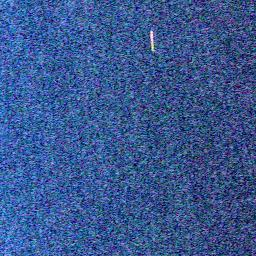Ship: (141, 28, 161, 51)
